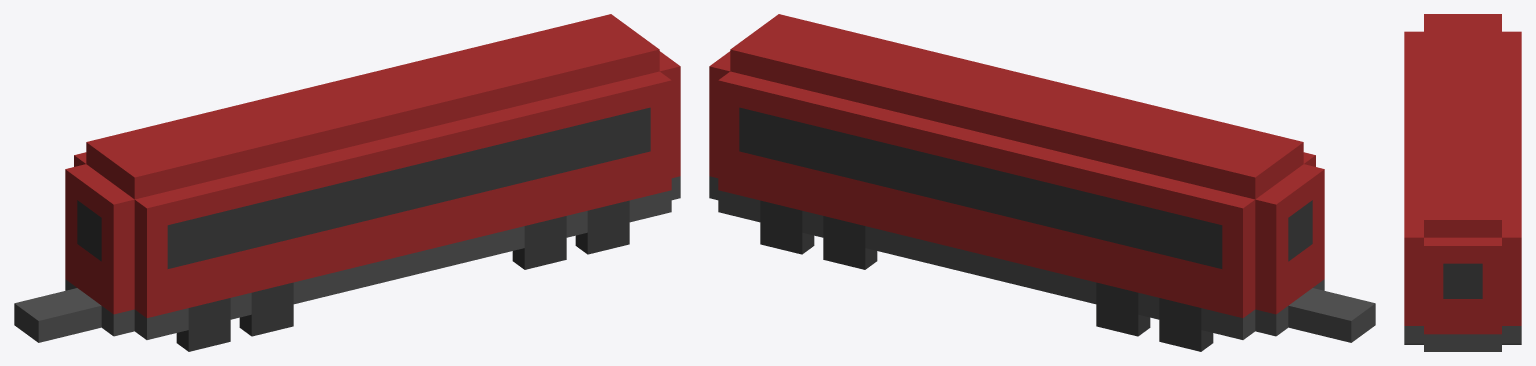
File: train-trailer-v5-red.gltf
The picture shows the model from 3 angles, left to right: view 1: azimuth 30°, elevation 25°; view 2: azimuth 150°, elevation 25°; view 3: azimuth 270°, elevation 25°; orthographic projection. The views are drawn at different scales.
Parts seen in each view (by area): view 1: model, wheels; view 2: model, wheels; view 3: model.
Boxes of the visible parts, left/top/right/bottom form: model: left=14, top=14, right=680, bottom=342; wheels: left=176, top=200, right=629, bottom=351; model: left=709, top=14, right=1375, bottom=342; wheels: left=760, top=200, right=1213, bottom=351; model: left=1404, top=14, right=1521, bottom=351.
Size of the model in its own units: 3 by 0.8 by 0.6.
Materials: 2 (2 with a texture image).
